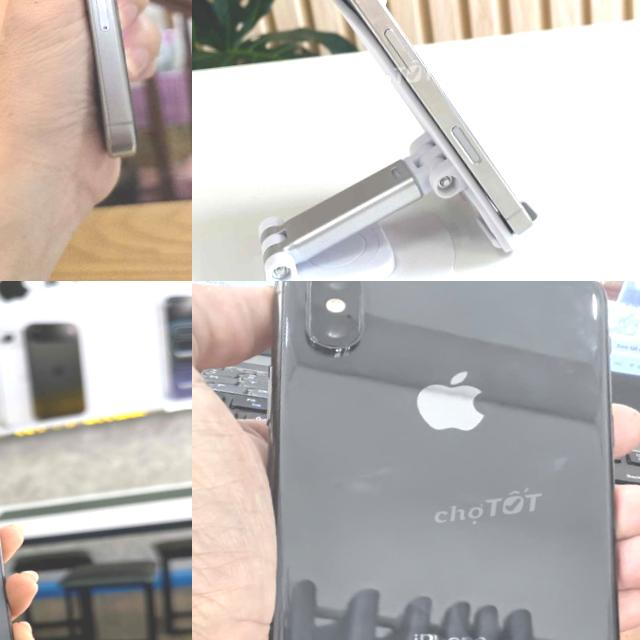gen_15: (45, 0, 150, 168)
gen_16: (264, 0, 553, 271)
gen_x_xs: (200, 281, 640, 640)
